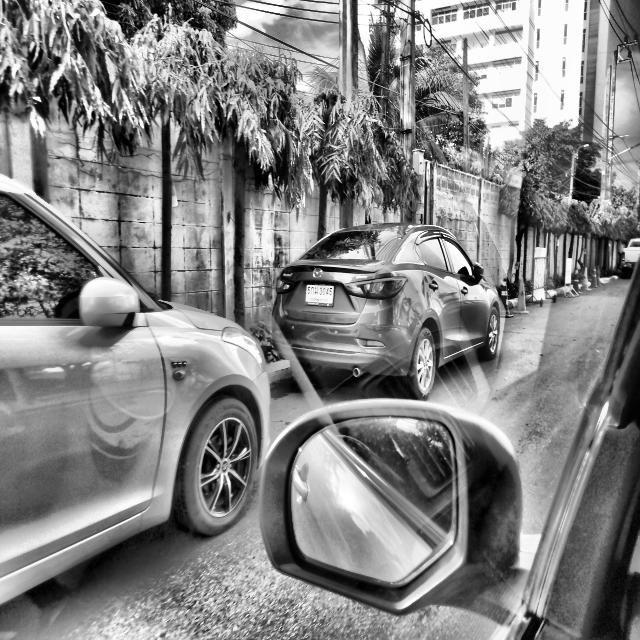license-plate: (304, 277, 338, 310)
